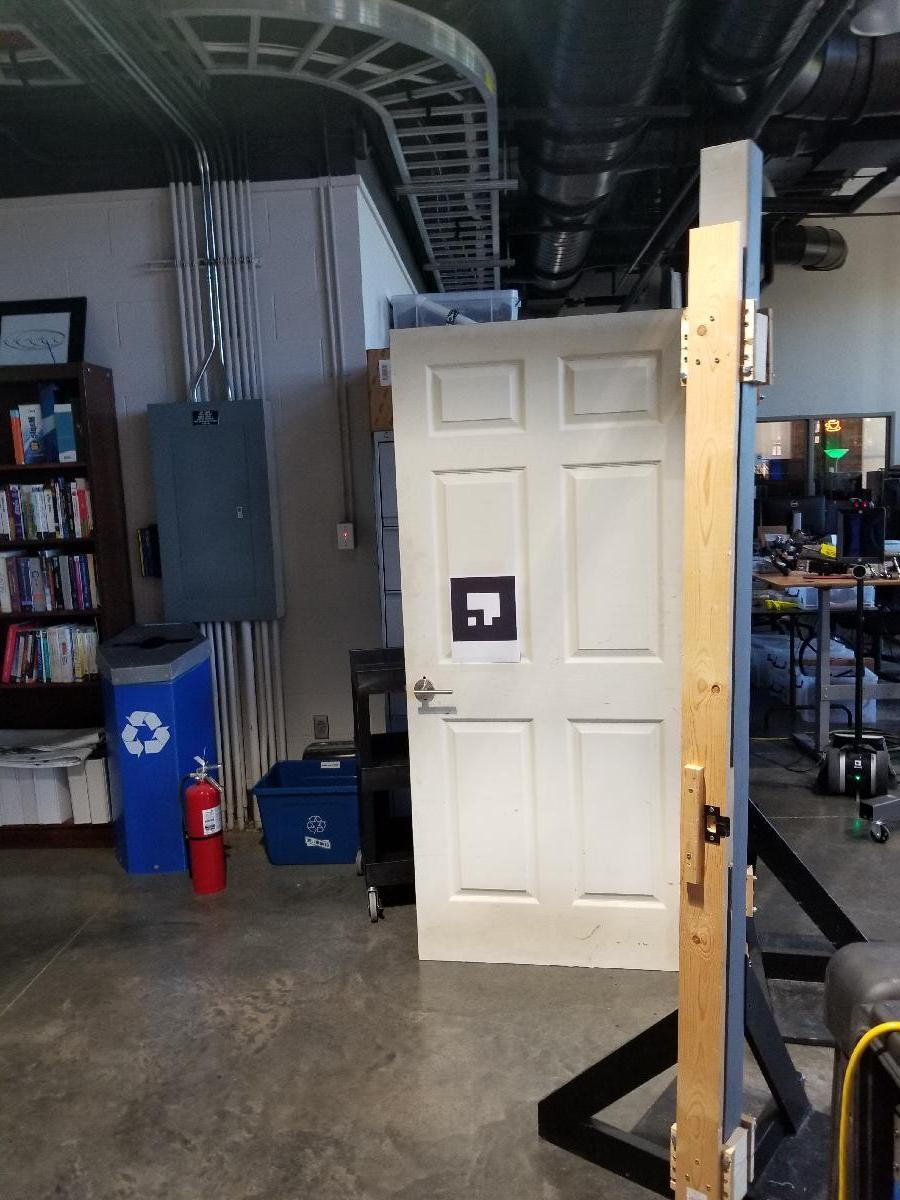door: (406, 303, 686, 975)
handle: (412, 672, 458, 704)
